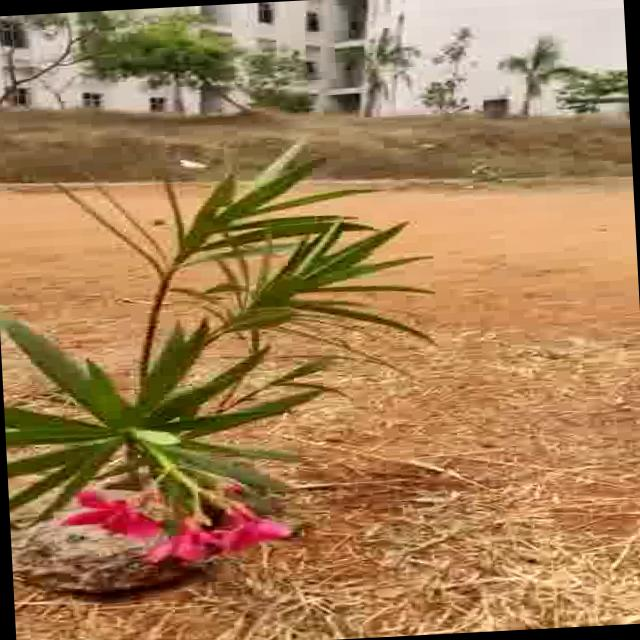OLEANDER: (0, 119, 439, 571)
